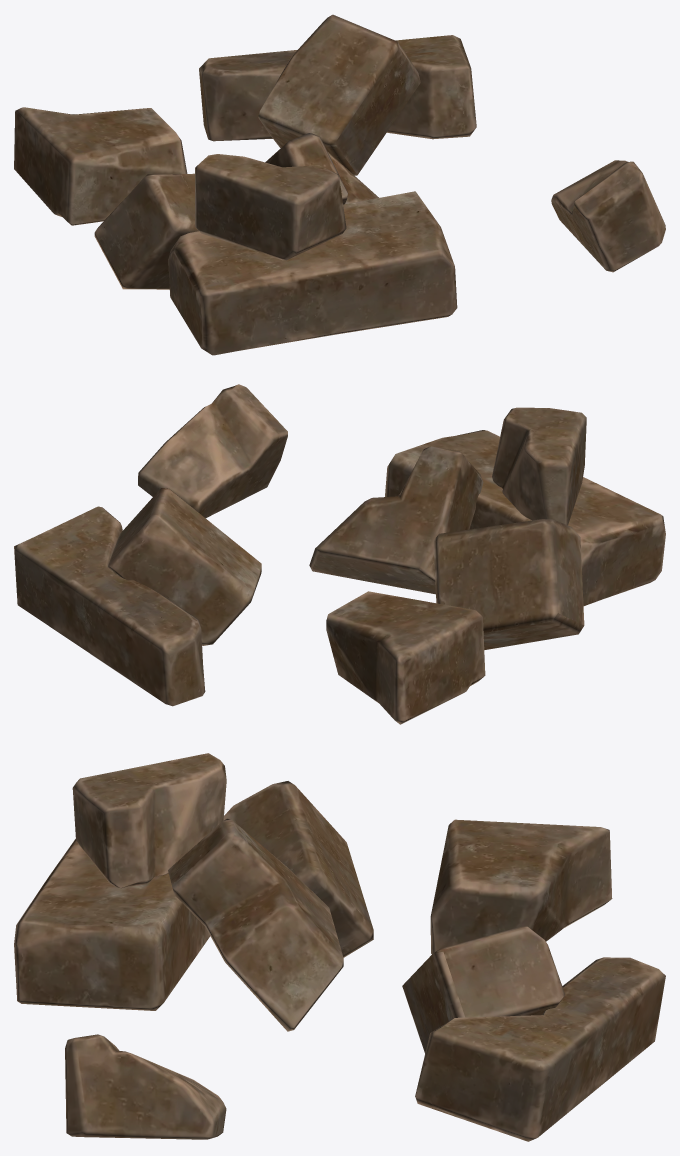
3 views of the same model, one above another, from view 1: azimuth 30°, elevation 25°; view 2: azimuth 150°, elevation 25°; view 3: azimuth 270°, elevation 25° (orthographic). The views are drawn at different scales.
Parts seen in each view (by area): view 1: SM_DK_Rubble_01_LOD0; view 2: SM_DK_Rubble_01_LOD0; view 3: SM_DK_Rubble_01_LOD0.
Boxes of the visible parts, left/top/right/bottom form: SM_DK_Rubble_01_LOD0: left=14, top=14, right=665, bottom=355; SM_DK_Rubble_01_LOD0: left=14, top=384, right=665, bottom=724; SM_DK_Rubble_01_LOD0: left=14, top=753, right=665, bottom=1141.
Size of the model in its own units: 5.54 by 1.91 by 5.7.
Materials: 1 (1 with a texture image).
